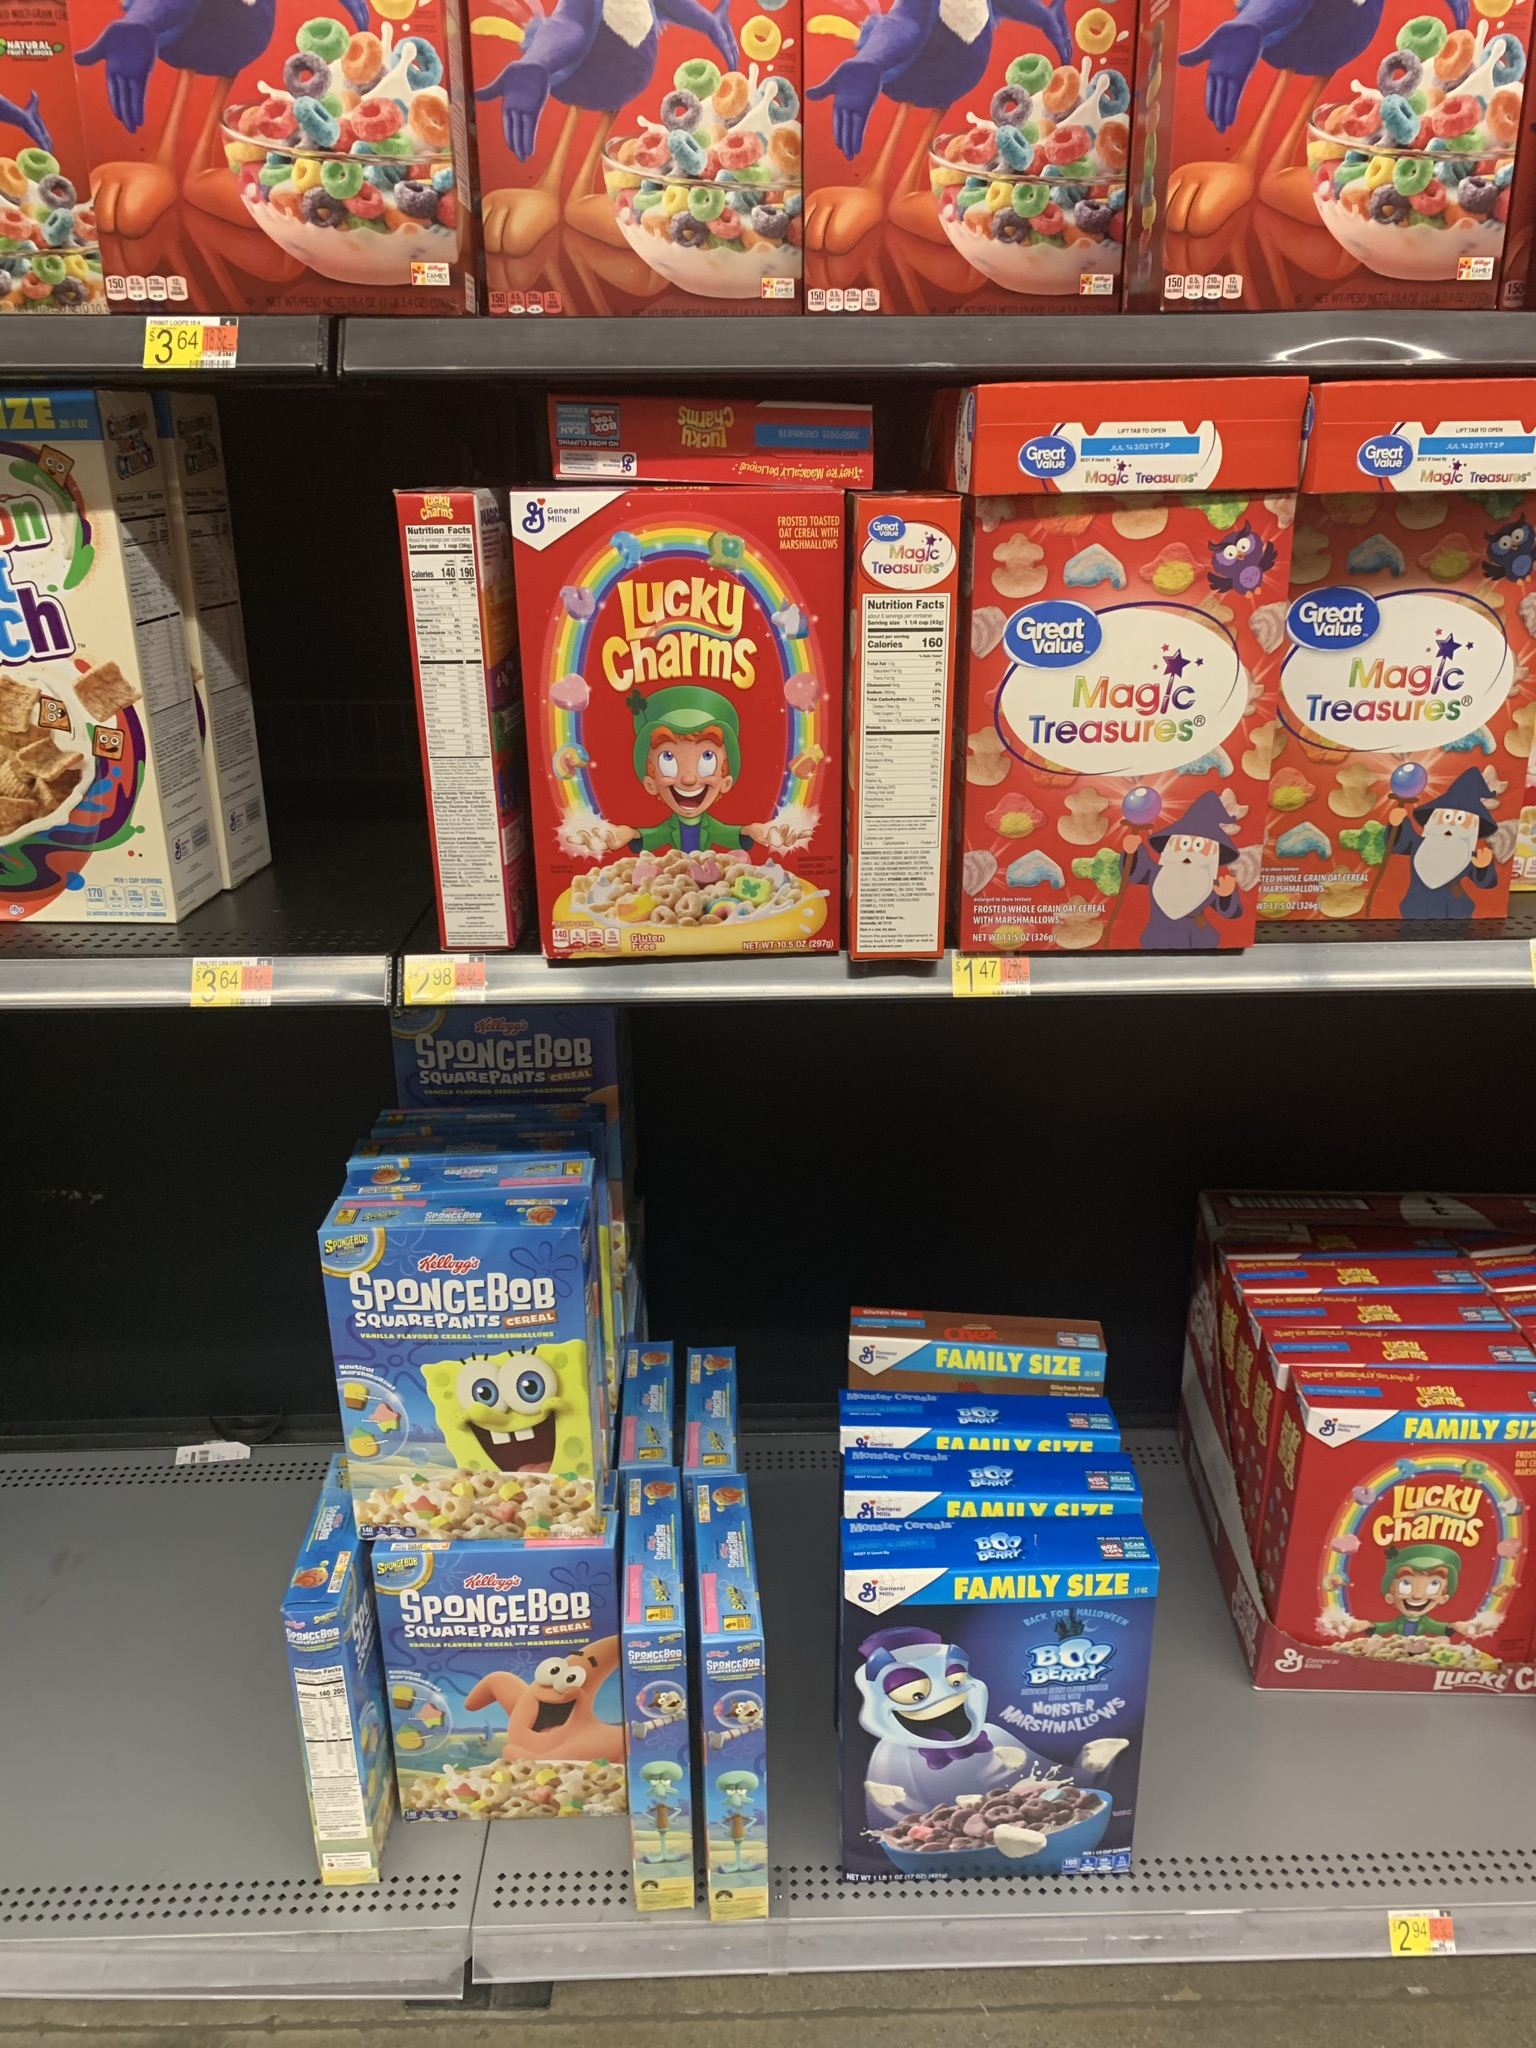box: (523, 508, 841, 953), (987, 547, 1254, 951), (97, 2, 461, 297), (812, 2, 1117, 310), (1179, 6, 1491, 305), (487, 3, 797, 302), (1304, 527, 1517, 913), (855, 1588, 1141, 1875), (363, 1247, 579, 1534), (1302, 1432, 1534, 1687), (2, 414, 118, 914), (402, 1572, 615, 1809), (863, 518, 936, 959), (434, 514, 502, 943), (624, 1642, 691, 1909), (708, 1651, 771, 1919), (303, 1632, 363, 1884)
